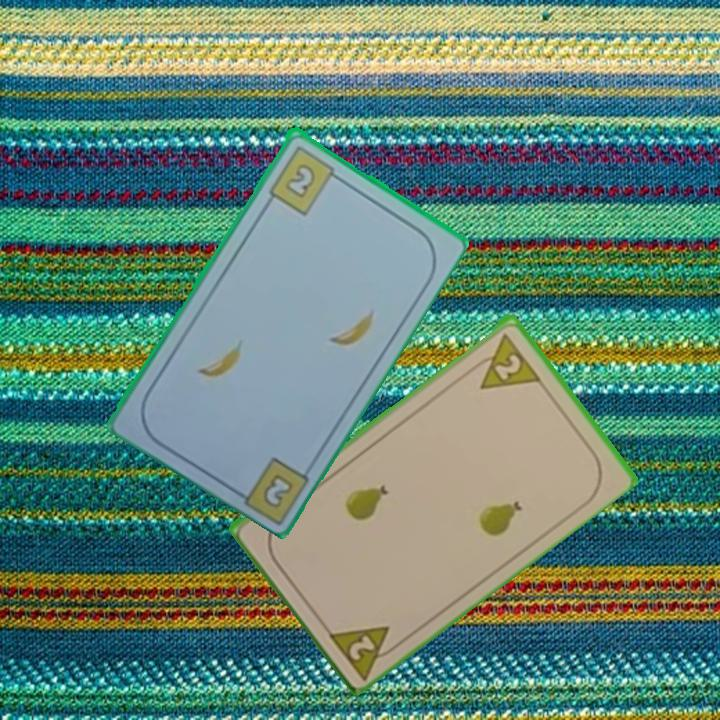2b: (265, 141, 344, 217), (259, 469, 297, 511)
2p: (323, 621, 406, 681), (466, 329, 543, 392)
